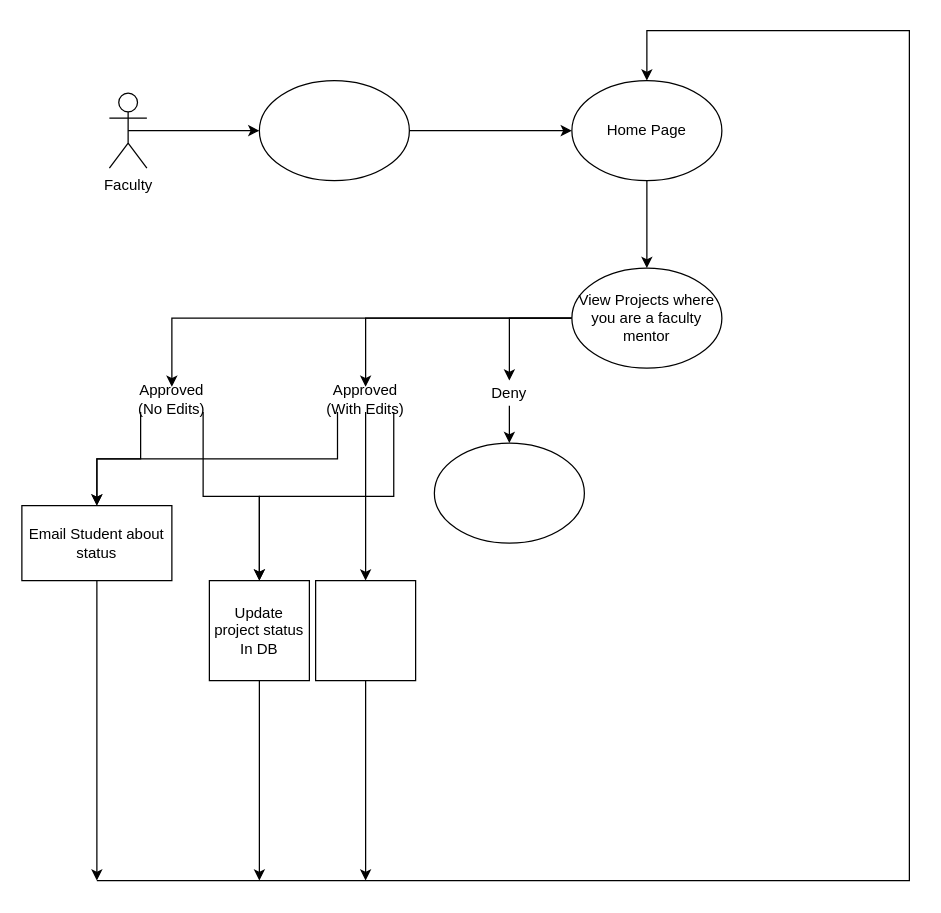
This 941x913 diagram has some shape labels left out. The centre of each missing label's shape, as x and y in pixels:
Login: point (333, 130)
Protocol TBD: point (508, 492)
Update abstract in DB: point (365, 630)
